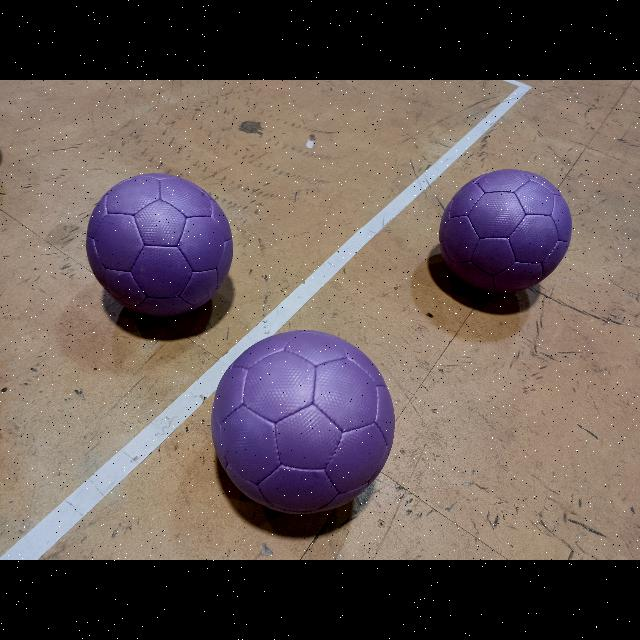P: (212, 330, 396, 514), (87, 174, 233, 316), (440, 168, 572, 294)
